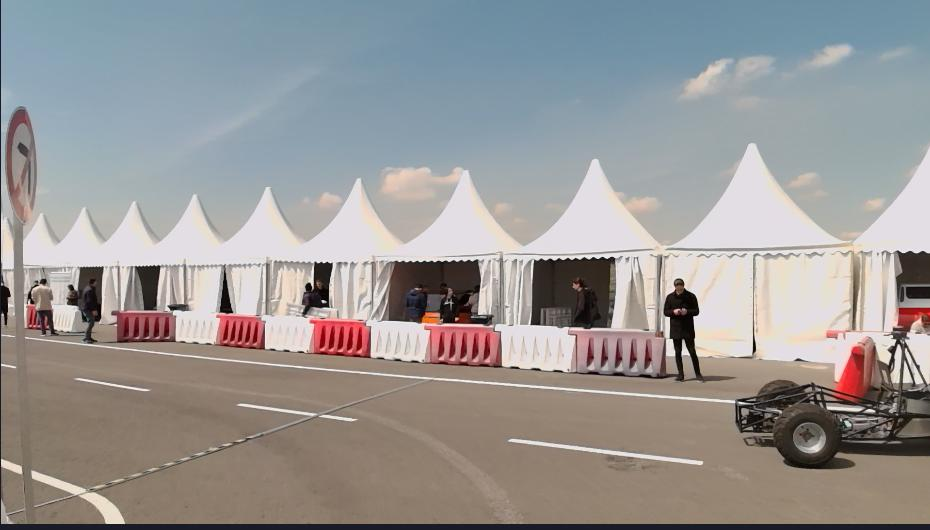nesne: (0, 332, 929, 528), (0, 334, 930, 526), (0, 358, 926, 527), (27, 336, 733, 402), (109, 309, 660, 374), (734, 329, 929, 470), (0, 453, 129, 528), (506, 435, 704, 468), (662, 276, 705, 381), (569, 327, 659, 376), (4, 106, 38, 220), (497, 325, 572, 370), (831, 339, 883, 401), (427, 323, 499, 365), (368, 320, 428, 362), (236, 402, 358, 421), (311, 319, 368, 356), (110, 310, 173, 341), (262, 316, 311, 352), (568, 277, 602, 327), (30, 276, 58, 332), (217, 314, 262, 345), (176, 310, 218, 342), (79, 277, 97, 343), (76, 376, 151, 391), (50, 303, 82, 332), (403, 280, 427, 318), (436, 284, 459, 321), (300, 282, 321, 318), (0, 275, 12, 323), (312, 275, 328, 306), (65, 282, 79, 304), (25, 305, 37, 326), (0, 360, 19, 370)
